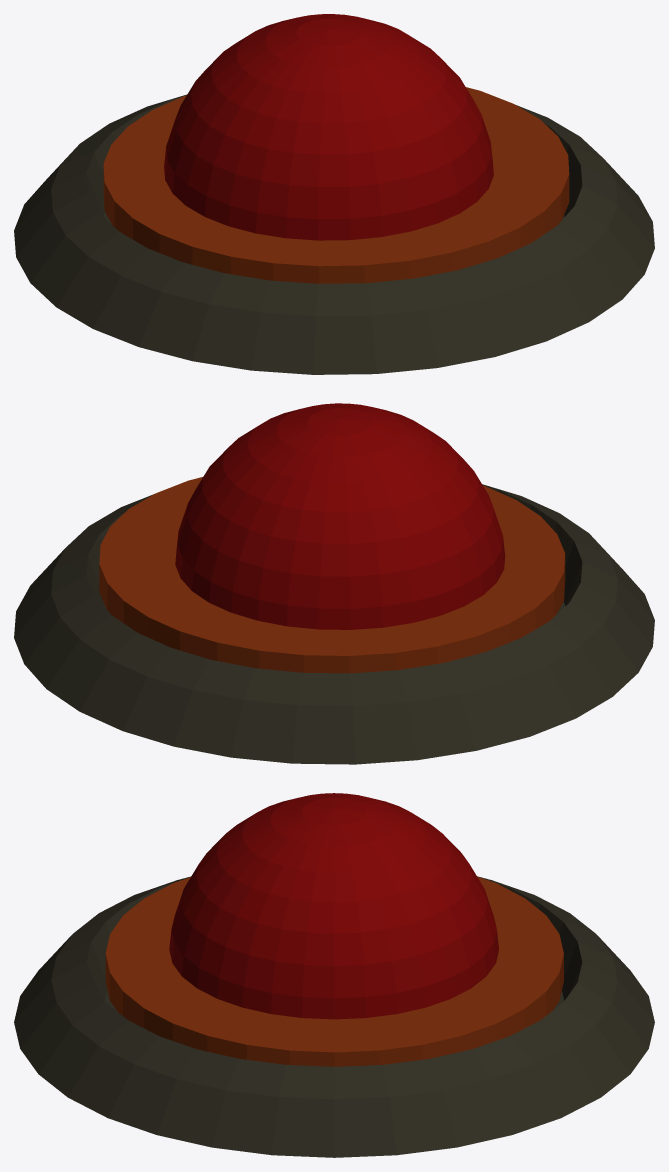
File: fire_bomb.obj
The picture shows the model from 3 angles, top to bottom: view 1: azimuth 30°, elevation 25°; view 2: azimuth 150°, elevation 25°; view 3: azimuth 270°, elevation 25°; orthographic projection.
Parts seen in each view (by area): view 1: Circle, Sphere, Circle.001; view 2: Circle, Sphere, Circle.001; view 3: Circle, Sphere, Circle.001.
Boxes of the visible parts, x1,y1,x2,y2 form: Circle: [14, 94, 654, 374]; Sphere: [164, 14, 493, 240]; Circle.001: [103, 87, 569, 283]; Circle: [14, 484, 654, 764]; Sphere: [175, 403, 505, 629]; Circle.001: [99, 477, 565, 673]; Circle: [14, 876, 654, 1157]; Sphere: [169, 793, 498, 1019]; Circle.001: [105, 876, 563, 1066].
Size of the model in its own units: 11.68 by 6.05 by 11.68.
